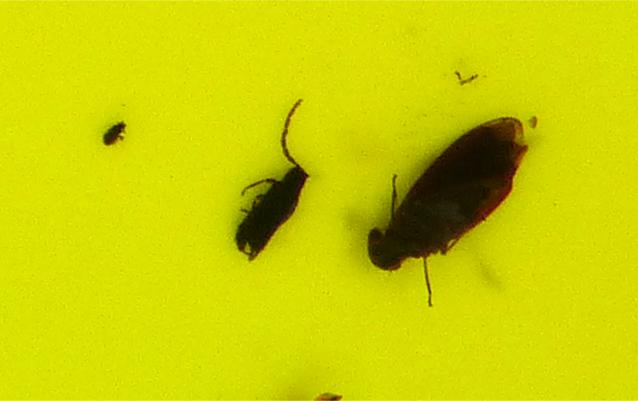Coleoptera: (100, 117, 126, 148)
Hemiptera: (347, 111, 538, 301)
Hymenoptera: (229, 100, 311, 263)
